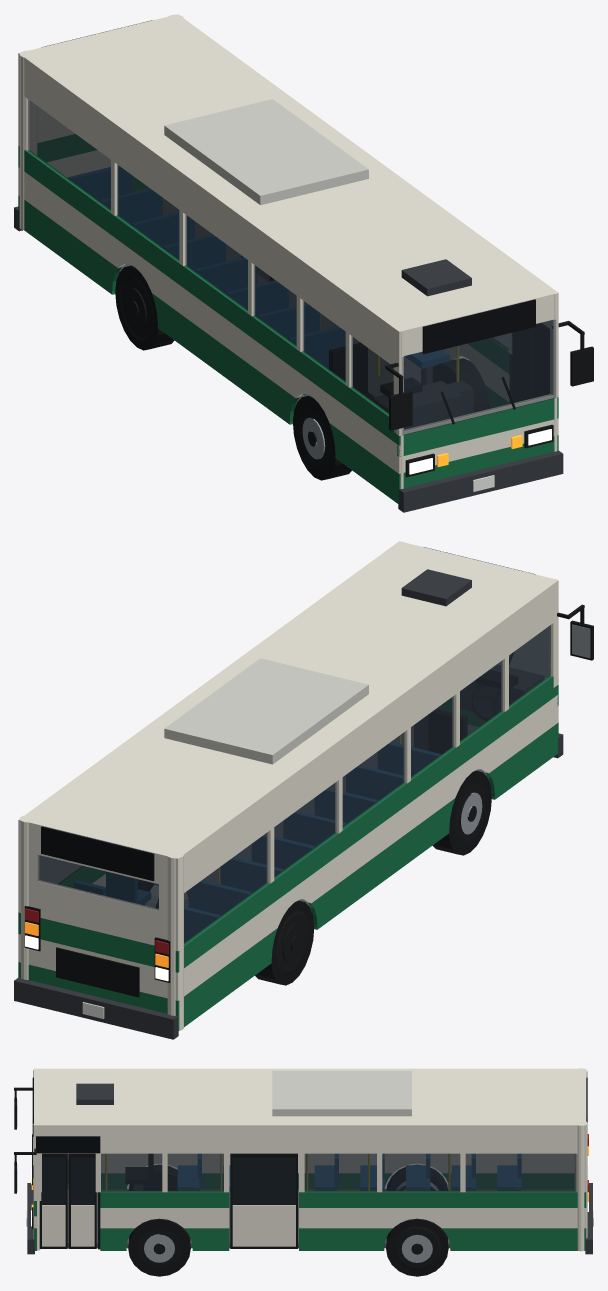
File: bus.glb
The picture shows the model from 3 angles, top to bottom: view 1: azimuth 30°, elevation 25°; view 2: azimuth 150°, elevation 25°; view 3: azimuth 270°, elevation 25°; orthographic projection. The views are drawn at different scales.
Parts seen in each view (by area): view 1: Roof, GlassR, CantRailR, RoofAC, Windshield, RMid, RSkirt, RBand, BumperF, FrontBand, SignFront, FrontSkirt (+31 smaller); view 2: Roof, GlassR, CantRailR, RoofAC, RMid, RBand, RSkirt, RearStrip, BumperR, GlassRear, SignRear, RearBand (+27 smaller); view 3: Roof, CantRailL, GlassL-0.4, RoofAC, LMidA, RMid, LSkirtA, LBandA, GlassL4.7, DoorFrameM, DoorGlassM, DoorPanelM (+30 smaller).
Boxes of the visible parts, x1,y1,x2,y2 form: Roof: (18,14,558,335); GlassR: (28,99,393,413); CantRailR: (18,57,400,370); RoofAC: (164,99,368,205); Windshield: (402,319,555,435); RMid: (18,167,400,473); RSkirt: (18,196,400,504); RBand: (18,146,400,445); BumperF: (398,450,563,512); FrontBand: (397,397,558,456); SignFront: (422,299,535,353); FrontSkirt: (397,435,558,503); Roof: (20,542,557,862); GlassR: (184,625,550,944); CantRailR: (175,585,558,897); RoofAC: (164,658,368,764); RMid: (176,695,558,1000); RBand: (175,676,558,972); RSkirt: (176,723,557,1030); RearStrip: (18,877,178,950); BumperR: (14,977,178,1039); GlassRear: (37,855,158,910); SignRear: (41,826,154,881); RearBand: (18,913,178,972); Roof: (34,1068,586,1128); CantRailL: (34,1128,586,1153); GlassL-0.4: (304,1153,575,1191); RoofAC: (272,1071,411,1116); LMidA: (299,1208,586,1228); RMid: (101,1153,574,1173); LSkirtA: (299,1228,586,1250); LBandA: (299,1191,586,1207); GlassL4.7: (101,1153,223,1191); DoorFrameM: (230,1153,297,1248); DoorGlassM: (233,1158,295,1204); DoorPanelM: (232,1205,295,1246).
Size of the model in its own units: 3.17 by 3.27 by 10.8.
